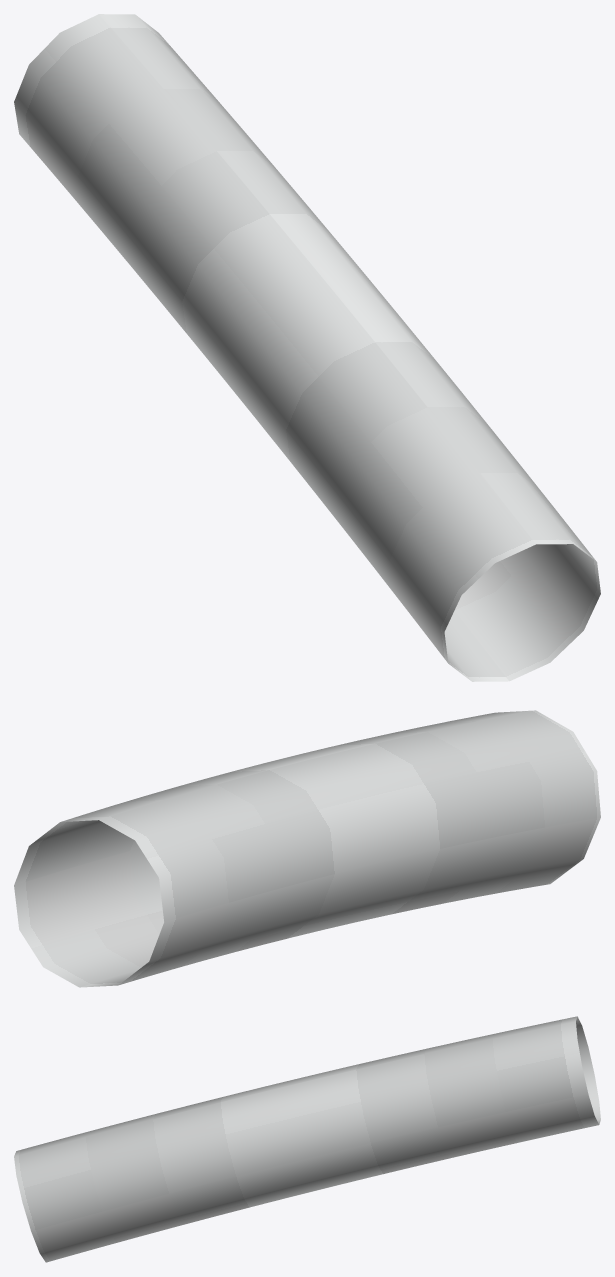
Rendered from luminairearm_caltrans15ft_c3.obj.
3 renders of one model, top to bottom at view 1: azimuth 30°, elevation 25°; view 2: azimuth 150°, elevation 25°; view 3: azimuth 270°, elevation 25°, orthographic. The views are drawn at different scales.
Visible parts, largest first — view 1: luminairearm_caltrans15ft_c3; view 2: luminairearm_caltrans15ft_c3; view 3: luminairearm_caltrans15ft_c3.
Part boxes in pixels (x1,y1,x2,y2): luminairearm_caltrans15ft_c3: [14, 14, 600, 681]; luminairearm_caltrans15ft_c3: [14, 710, 600, 987]; luminairearm_caltrans15ft_c3: [14, 1016, 600, 1262].
Size of the model in its own units: 0.2083 by 0.4666 by 1.05.
